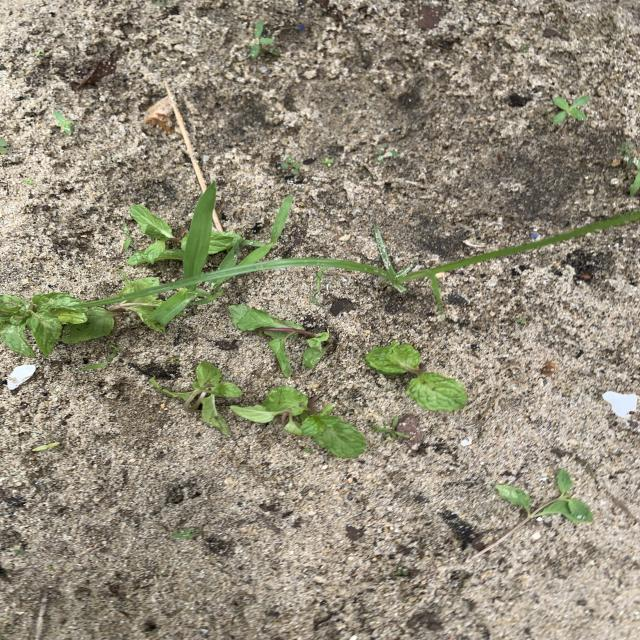crop: (469, 469, 593, 560), (230, 387, 366, 458), (365, 341, 468, 411), (229, 305, 329, 377), (150, 361, 242, 435), (0, 293, 88, 358), (62, 295, 164, 343), (128, 205, 189, 265), (119, 270, 160, 294), (207, 232, 242, 255)
weed: (83, 211, 640, 312), (239, 196, 293, 265), (149, 279, 224, 327), (183, 182, 216, 280), (248, 21, 280, 59), (553, 95, 590, 126), (620, 142, 640, 196), (81, 346, 121, 371), (372, 416, 407, 439), (311, 267, 326, 307), (53, 110, 76, 136), (280, 156, 303, 179), (218, 243, 238, 269), (0, 138, 16, 161), (172, 528, 202, 540), (122, 221, 132, 251), (32, 442, 60, 452), (321, 157, 335, 168), (10, 547, 27, 555), (515, 318, 527, 326), (22, 179, 36, 185)
